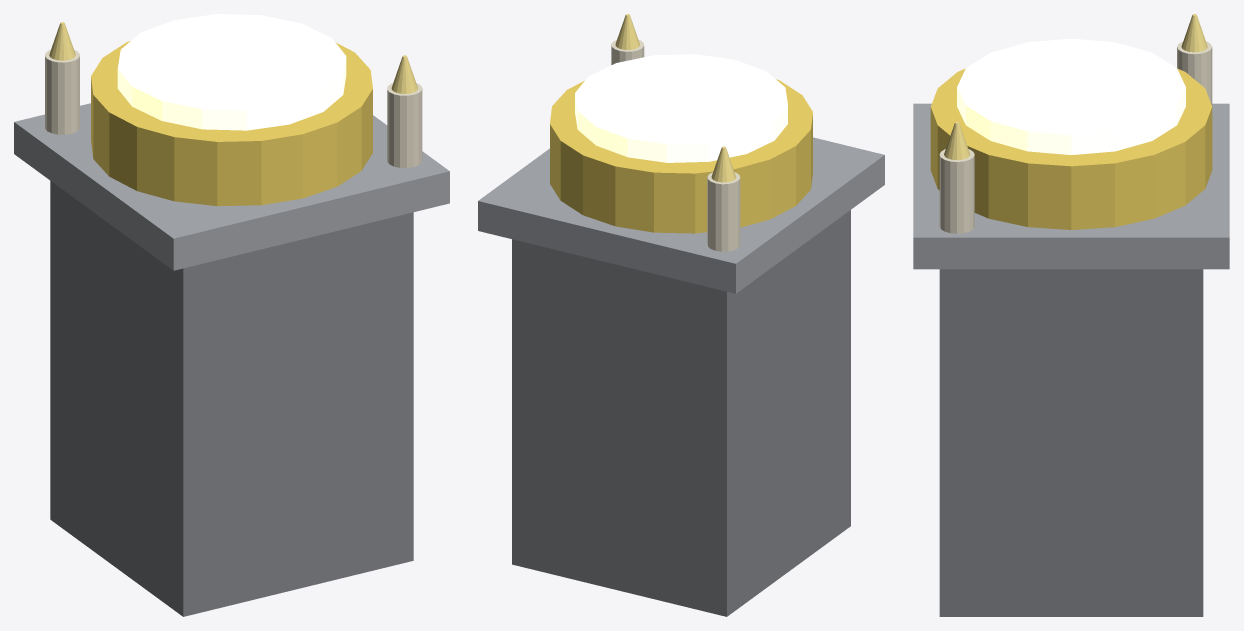
File: offering_altar.fbx
The picture shows the model from 3 angles, left to right: view 1: azimuth 30°, elevation 25°; view 2: azimuth 150°, elevation 25°; view 3: azimuth 270°, elevation 25°; orthographic projection. The views are drawn at different scales.
Parts seen in each view (by area): view 1: offering_altar; view 2: offering_altar; view 3: offering_altar.
Part boxes in pixels (bbox=[...]): offering_altar: bbox=[14, 14, 449, 616]; offering_altar: bbox=[478, 14, 884, 616]; offering_altar: bbox=[913, 14, 1229, 616].
Size of the model in its own units: 0.72 by 1.24 by 0.72.
